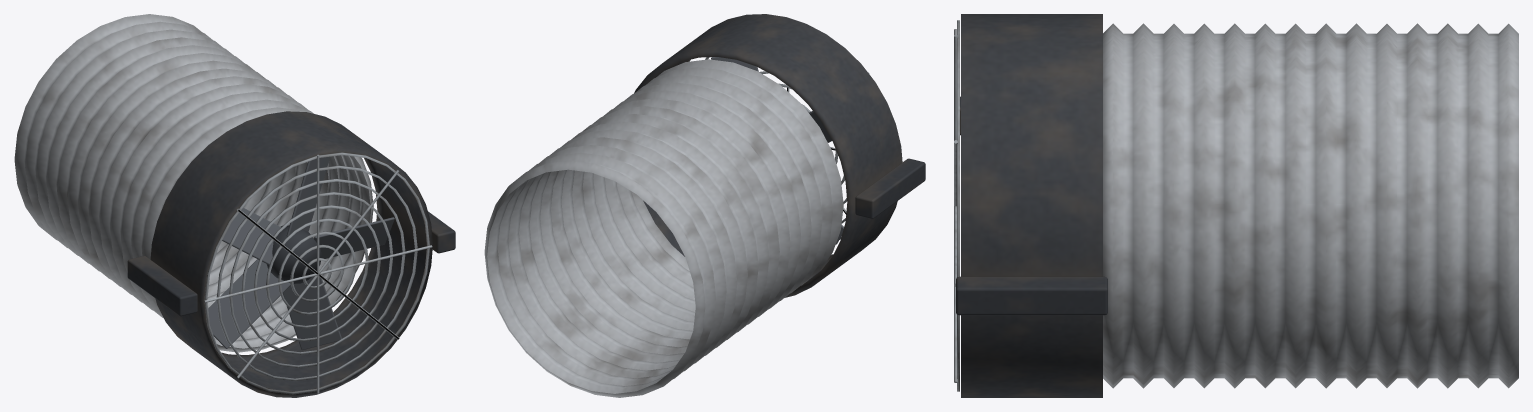
The model's file is lab_wentylator.glb.
3 renders of one model, left to right at view 1: azimuth 30°, elevation 25°; view 2: azimuth 150°, elevation 25°; view 3: azimuth 270°, elevation 25°, orthographic. The views are drawn at different scales.
Visible parts, largest first — view 1: Wentylator, FanMesh; view 2: Wentylator, FanMesh; view 3: Wentylator.
Part boxes in pixels (<box>): Wentylator: <box>14,14,455,397</box>; FanMesh: <box>208,156,394,350</box>; Wentylator: <box>484,14,925,397</box>; FanMesh: <box>711,57,843,244</box>; Wentylator: <box>954,14,1518,397</box>.
Size of the model in its own units: 0.9 by 0.76 by 1.11.
Materials: 3 (1 with a texture image).
